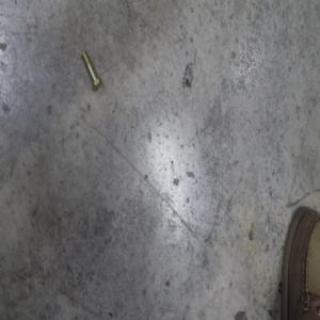Bolttrack_idkeyframe: (80, 47, 101, 92)
